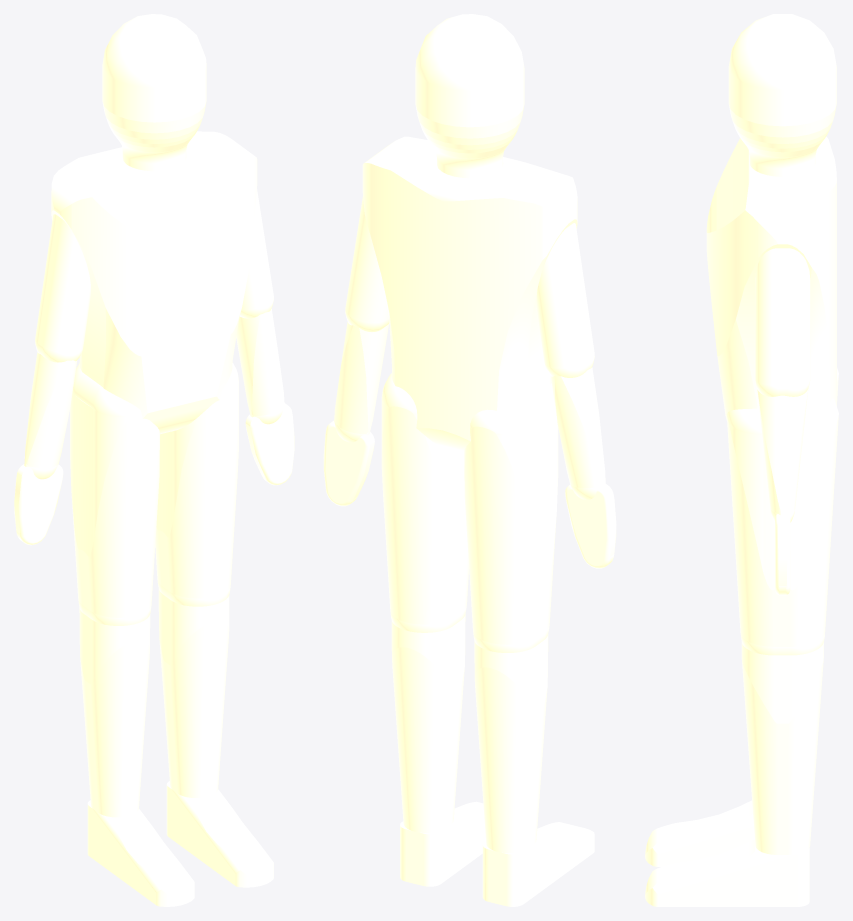
The model's file is mannequin.dae.
3 views of the same model, side by side, from view 1: azimuth 30°, elevation 25°; view 2: azimuth 150°, elevation 25°; view 3: azimuth 270°, elevation 25° (orthographic). The views are drawn at different scales.
Visible parts, largest first — view 1: Box; view 2: Box; view 3: Box.
Part boxes in pixels (box(x1,y1,x2,y2)): Box: box(14, 14, 294, 906); Box: box(323, 14, 616, 906); Box: box(645, 14, 838, 906).
Size of the model in its own units: 663 by 1898 by 388.
